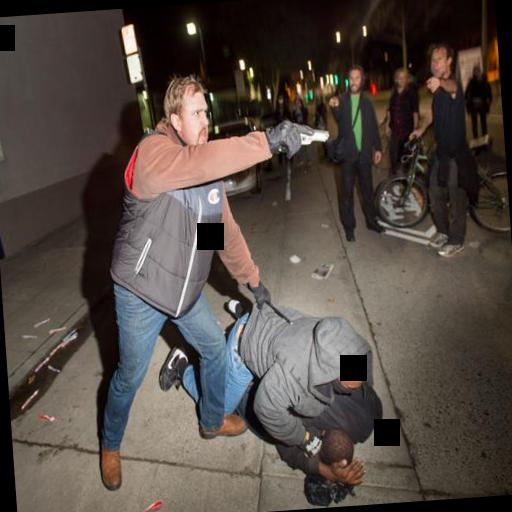Handgun: (270, 118, 334, 158)
